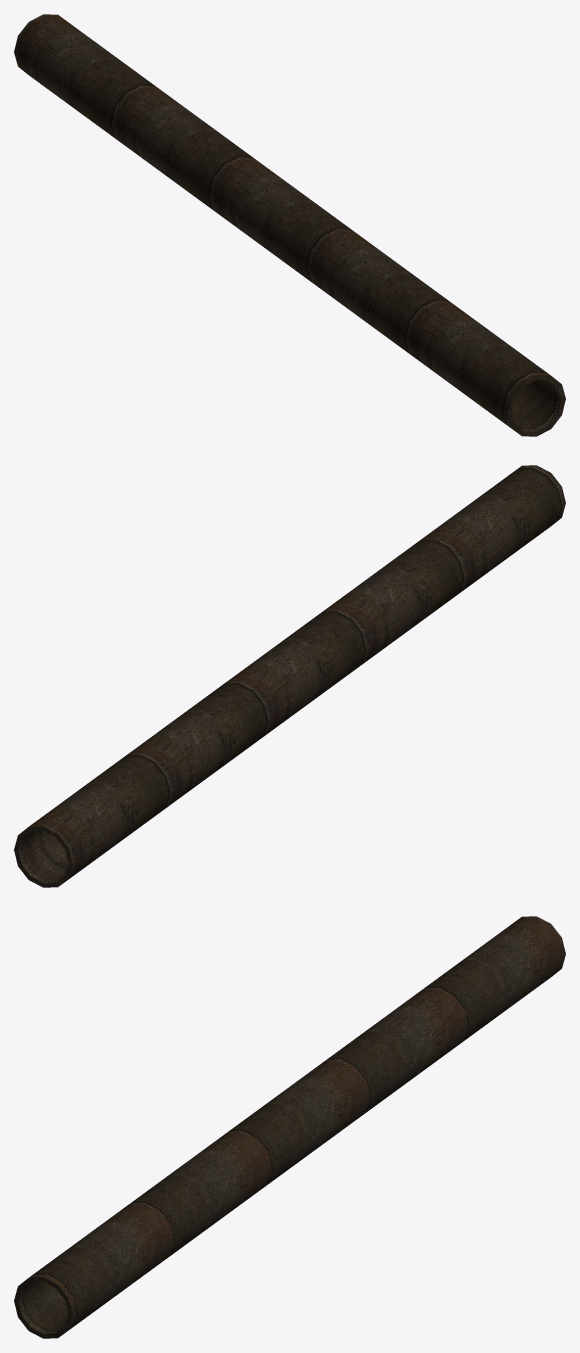
The model's file is pipe_ax_1.glb.
3 renders of one model, top to bottom at view 1: azimuth 30°, elevation 25°; view 2: azimuth 150°, elevation 25°; view 3: azimuth 330°, elevation 25°, orthographic.
Parts seen in each view (by area): view 1: pipe_ax_1; view 2: pipe_ax_1; view 3: pipe_ax_1.
Boxes of the visible parts, x1,y1,x2,y2 form: pipe_ax_1: (14, 14, 565, 436); pipe_ax_1: (14, 465, 565, 887); pipe_ax_1: (14, 916, 565, 1338).
Size of the model in its own units: 0.5 by 0.5 by 7.26.
Materials: 1 (1 with a texture image).
